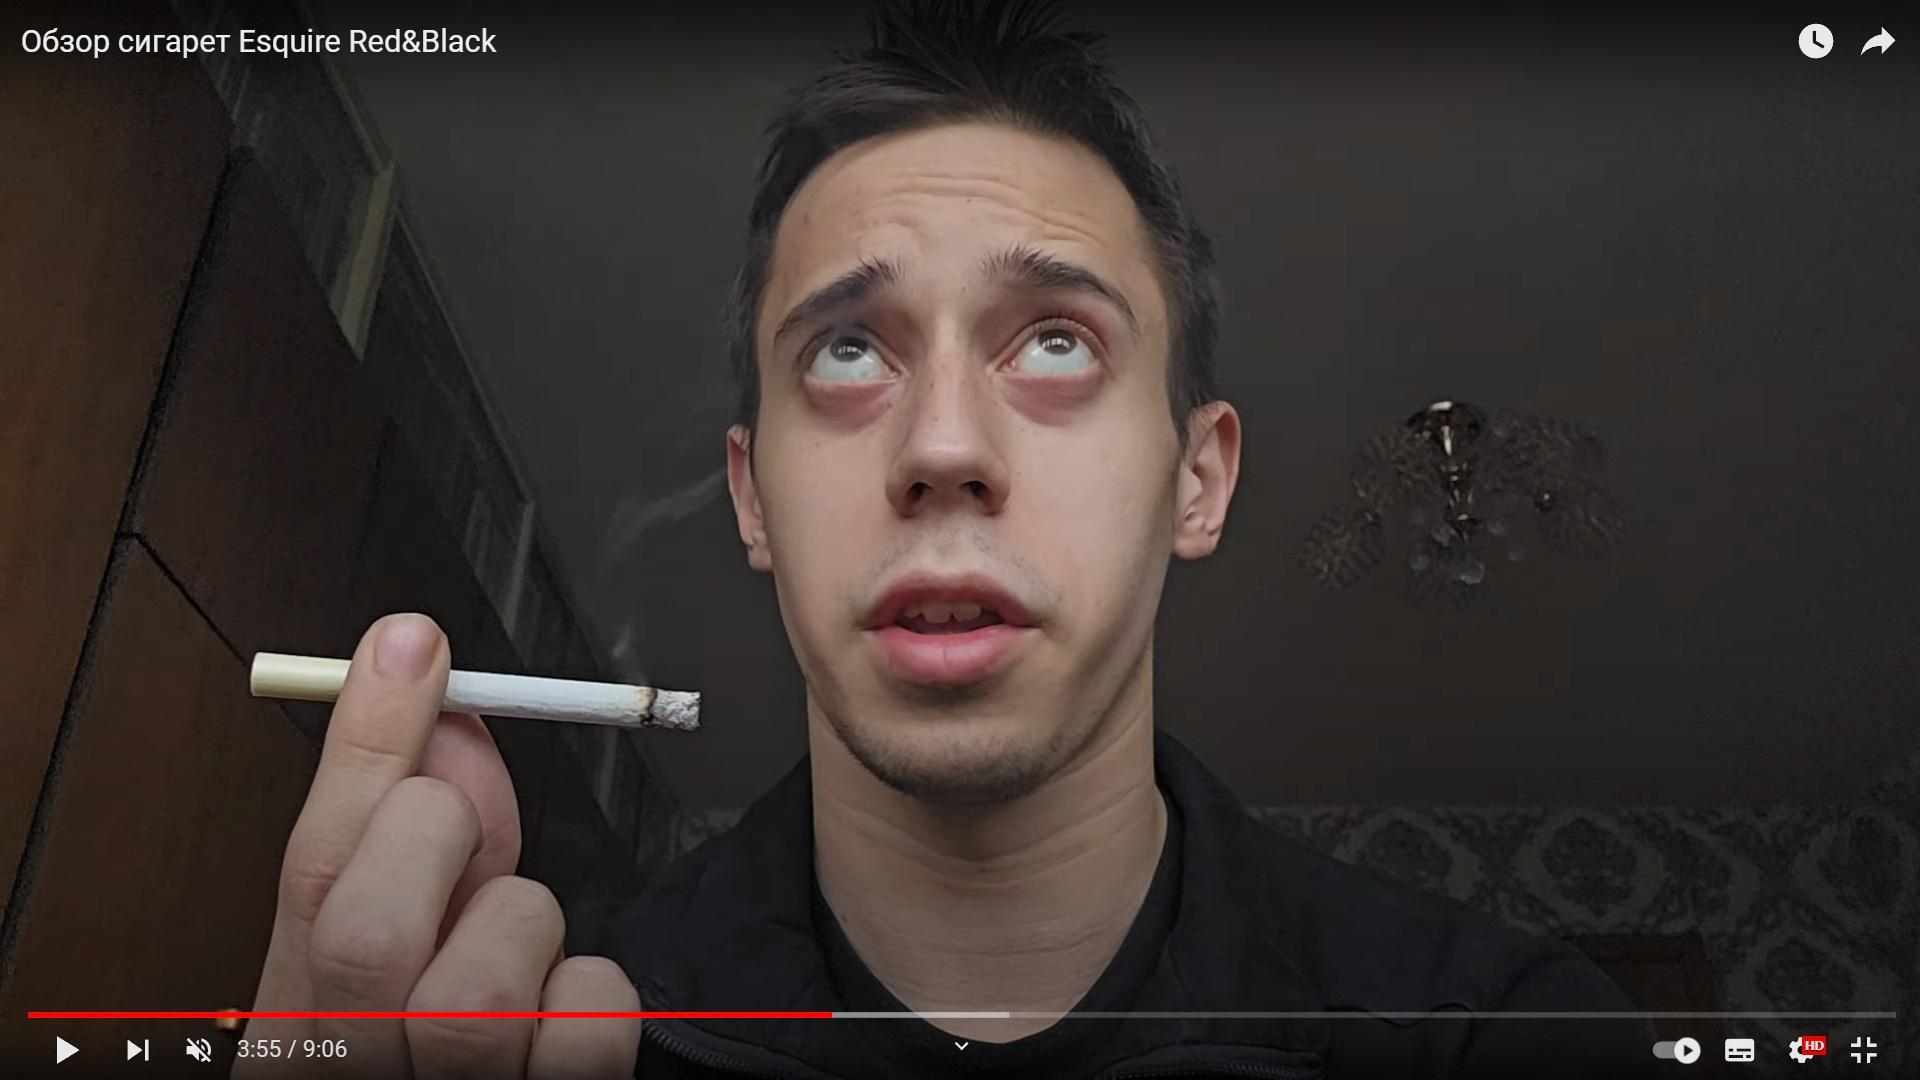cigarette: (249, 651, 702, 729)
